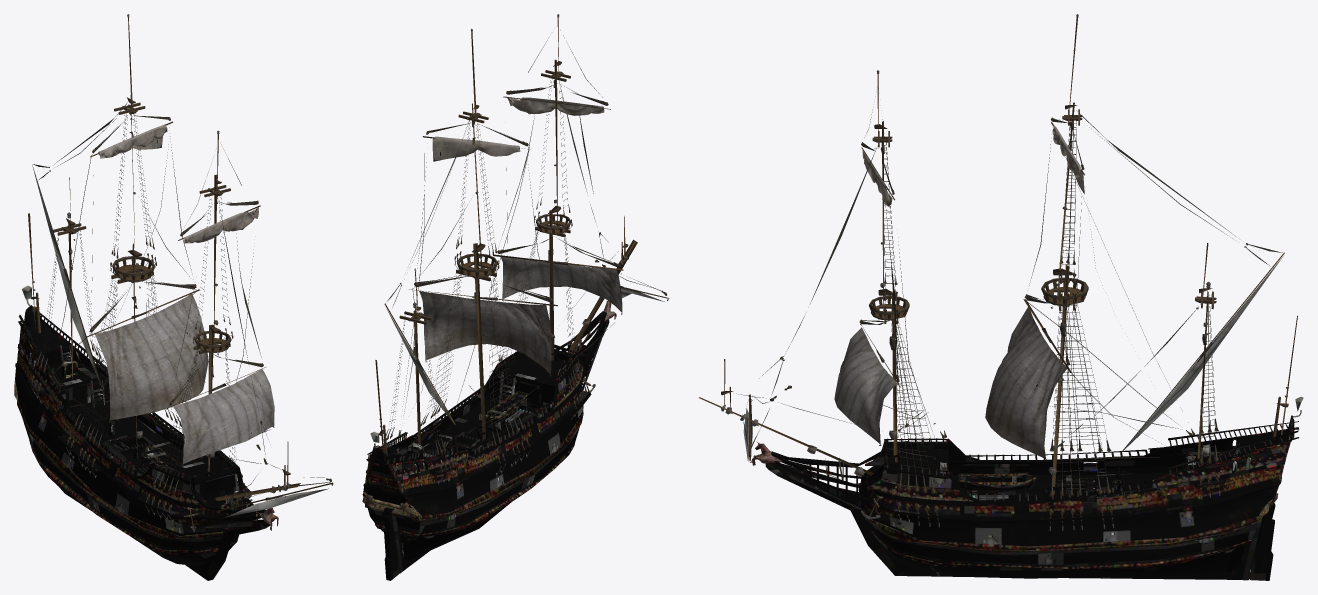
3 renders of one model, left to right at view 1: azimuth 30°, elevation 25°; view 2: azimuth 150°, elevation 25°; view 3: azimuth 270°, elevation 25°, orthographic. The views are drawn at different scales.
Size of the model in its own units: 6.8 by 24.66 by 23.91.
Materials: 3 (3 with a texture image).
